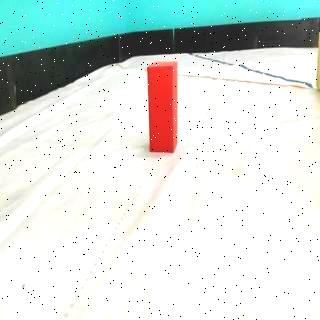redbox: (147, 62, 176, 154)
